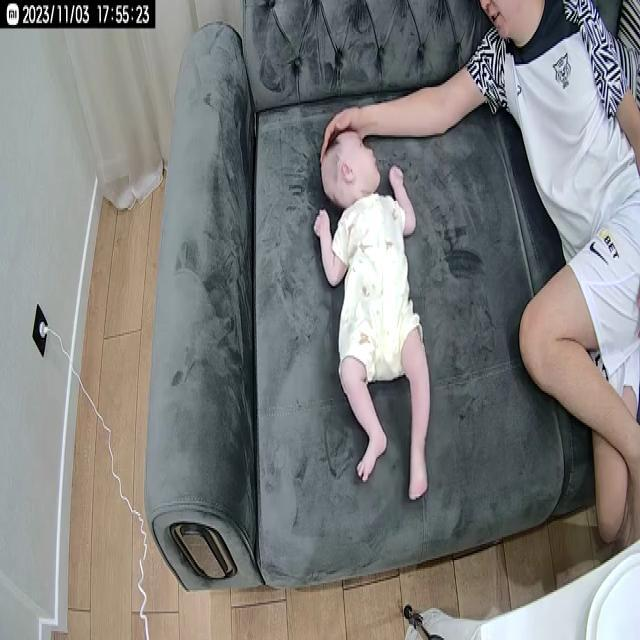baby: (313, 123, 433, 506)
